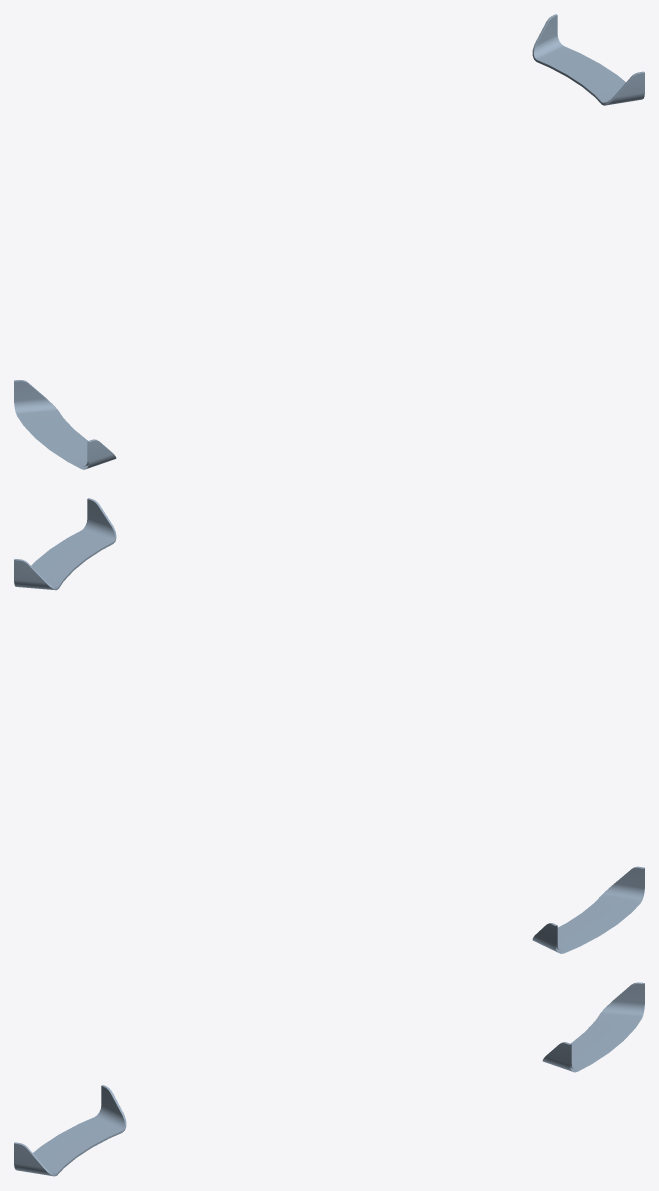
File: zg_shelves.fbx
3 renders of one model, top to bottom at view 1: azimuth 30°, elevation 25°; view 2: azimuth 150°, elevation 25°; view 3: azimuth 330°, elevation 25°, orthographic.
Parts seen in each view (by area): view 1: Shelf_top, Shelf_bottom; view 2: Shelf_bottom, Shelf_top; view 3: Shelf_bottom, Shelf_top.
Boxes of the visible parts, x1,y1,x2,y2 form: Shelf_top: [532, 14, 644, 105]; Shelf_bottom: [14, 380, 116, 469]; Shelf_bottom: [532, 866, 644, 953]; Shelf_top: [14, 498, 116, 590]; Shelf_bottom: [14, 1085, 126, 1176]; Shelf_top: [542, 982, 644, 1072].
Bounding box in the file's own units: 1007 × 449 × 253.
